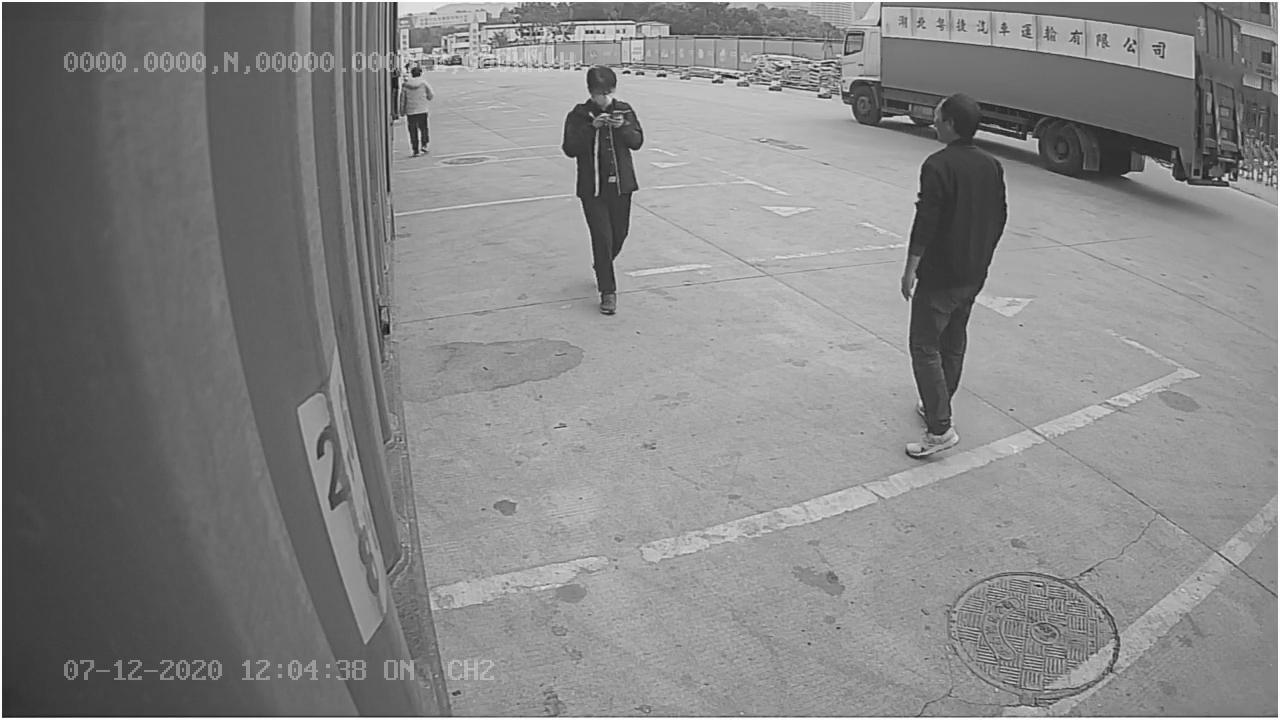person: (558, 62, 647, 317)
